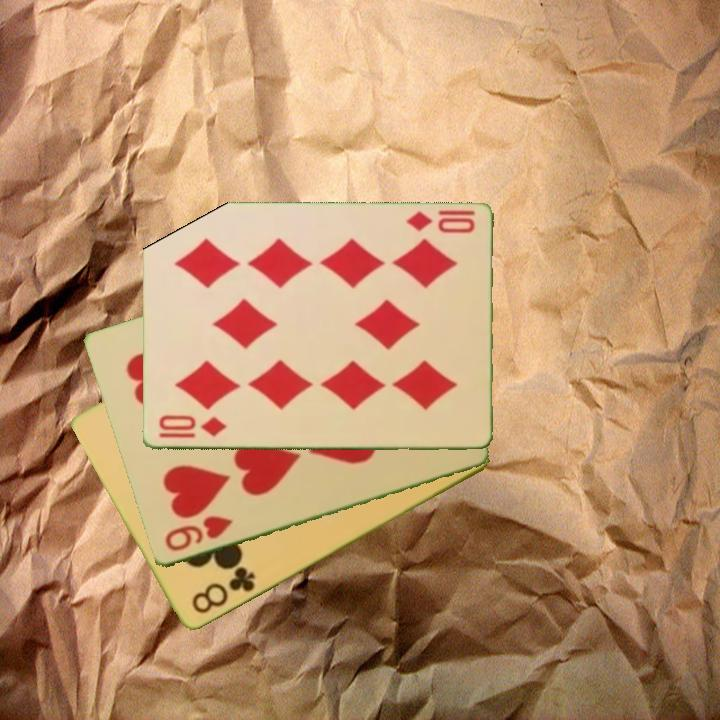10d: (155, 411, 230, 442), (402, 208, 477, 237)
8c: (188, 563, 258, 618)
9h: (161, 512, 236, 555)
